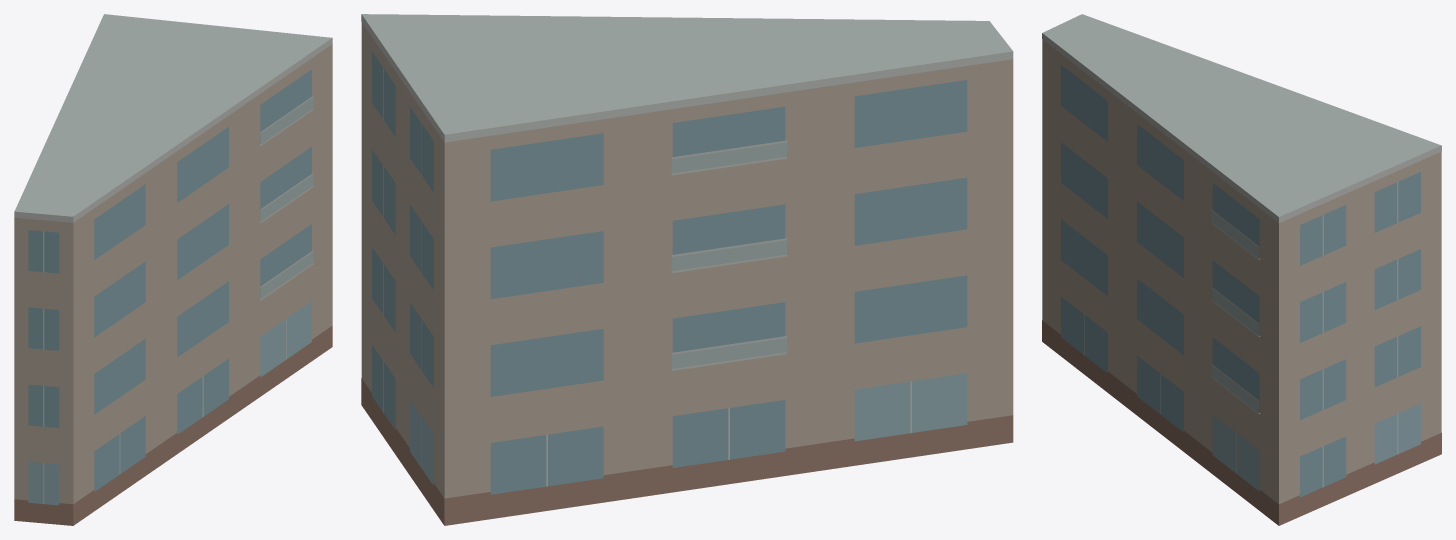
File: survey-upis-32781227.glb
The picture shows the model from 3 angles, left to right: view 1: azimuth 30°, elevation 25°; view 2: azimuth 150°, elevation 25°; view 3: azimuth 270°, elevation 25°; orthographic projection. The views are drawn at different scales.
Parts seen in each view (by area): view 1: survey-upis-32781227.tmp; view 2: survey-upis-32781227.tmp; view 3: survey-upis-32781227.tmp.
Part boxes in pixels (<box>): survey-upis-32781227.tmp: <box>14,14,332,525</box>; survey-upis-32781227.tmp: <box>361,14,1013,525</box>; survey-upis-32781227.tmp: <box>1042,14,1441,525</box>.
Size of the model in its own units: 17.51 by 12.4 by 14.55.
